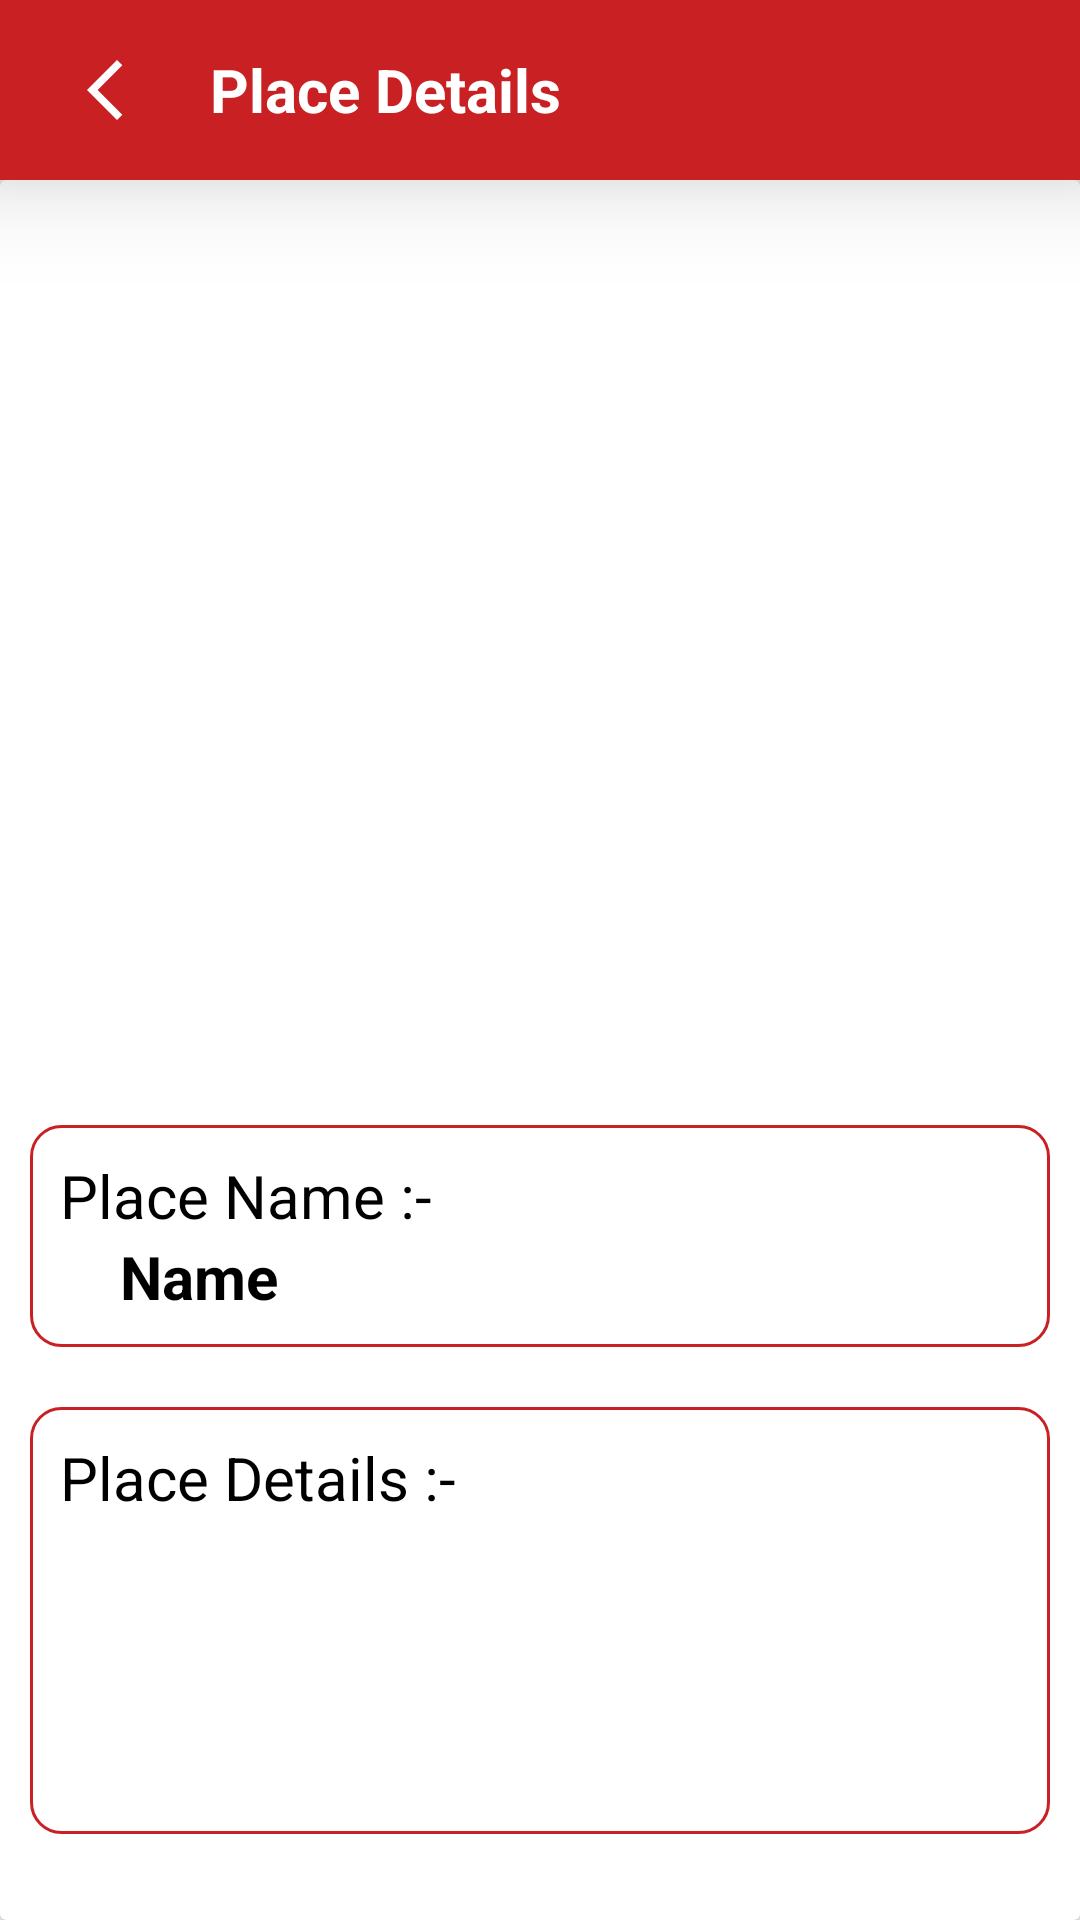

Point at icon controls on the screen. Image size 1080px x 1920px, points as point (x, y).
arrow back: point (104, 90)
